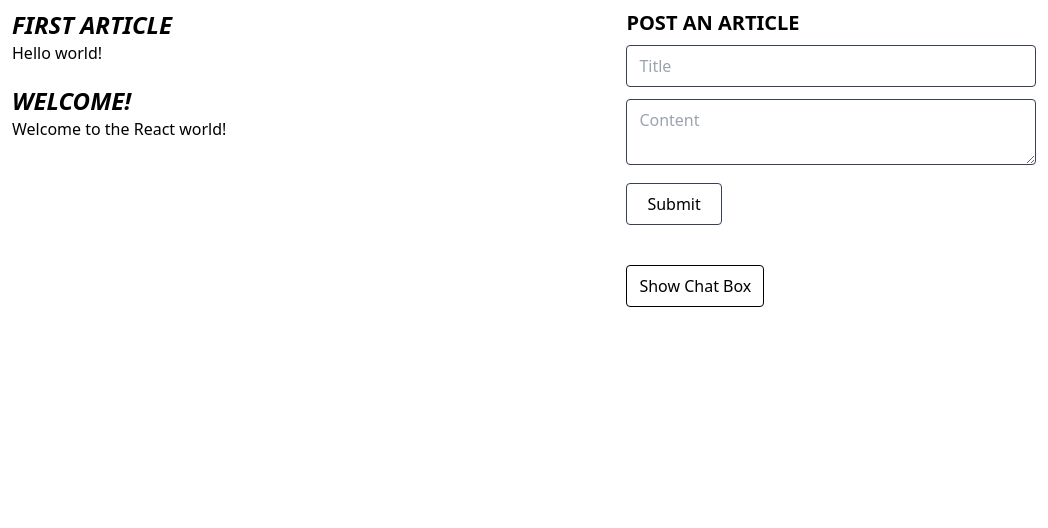
<App /> › shows <ChatBox />
The width and height of the screenshot is (1048, 528).
Click the button with test id "chat-box-visibility-button" at (695, 286), box [626,265,764,307]
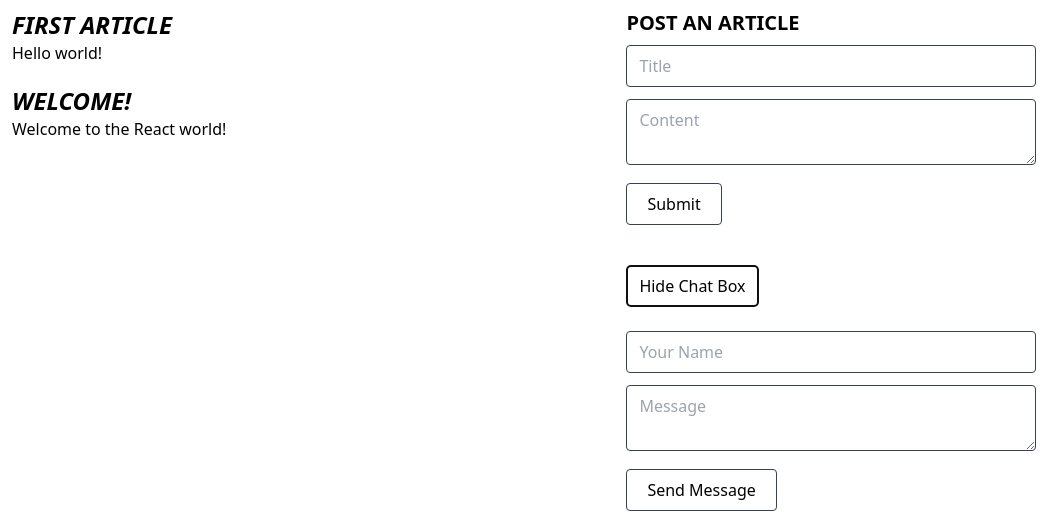
Expected: the form with test id "chat-box" is shown, [626,331,1036,511]
